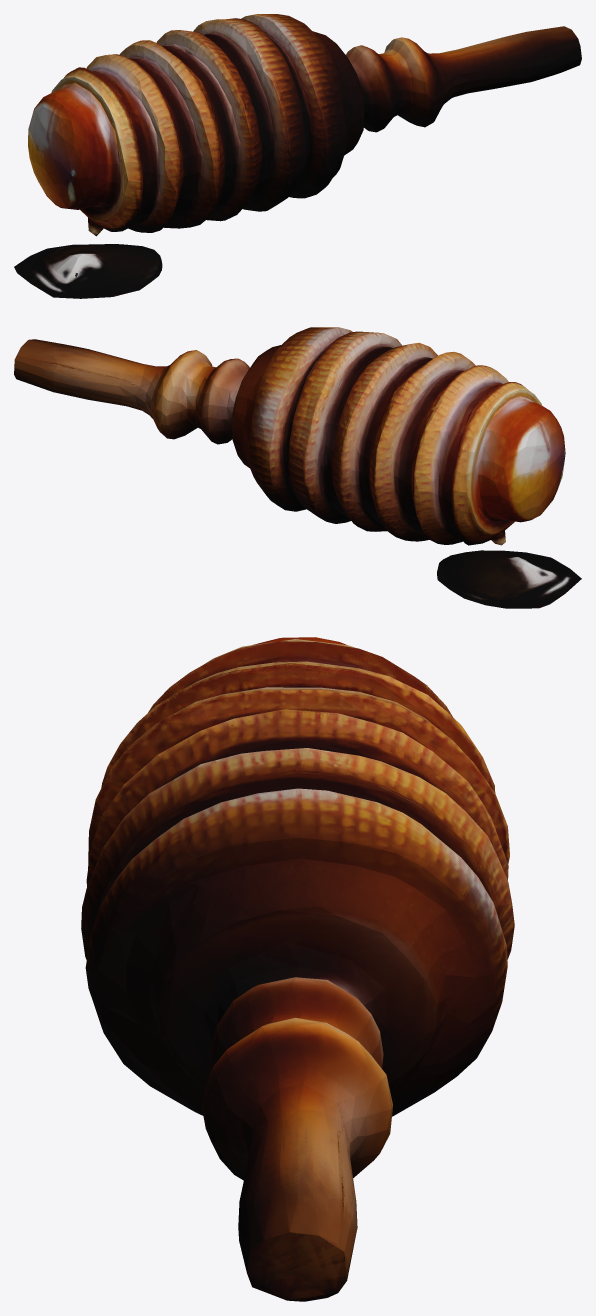
File: wooden-honey-dipper-rustic.jpeg.glb
The picture shows the model from 3 angles, top to bottom: view 1: azimuth 30°, elevation 25°; view 2: azimuth 150°, elevation 25°; view 3: azimuth 270°, elevation 25°; orthographic projection. The views are drawn at different scales.
Parts seen in each view (by area): view 1: world; view 2: world; view 3: world.
Part boxes in pixels (left/top/right/bottom): world: left=14, top=14, right=581, bottom=298; world: left=14, top=327, right=581, bottom=608; world: left=81, top=637, right=514, bottom=1301.
Size of the model in its own units: 1 by 0.3659 by 0.3493.
1 material, 1 textured.
